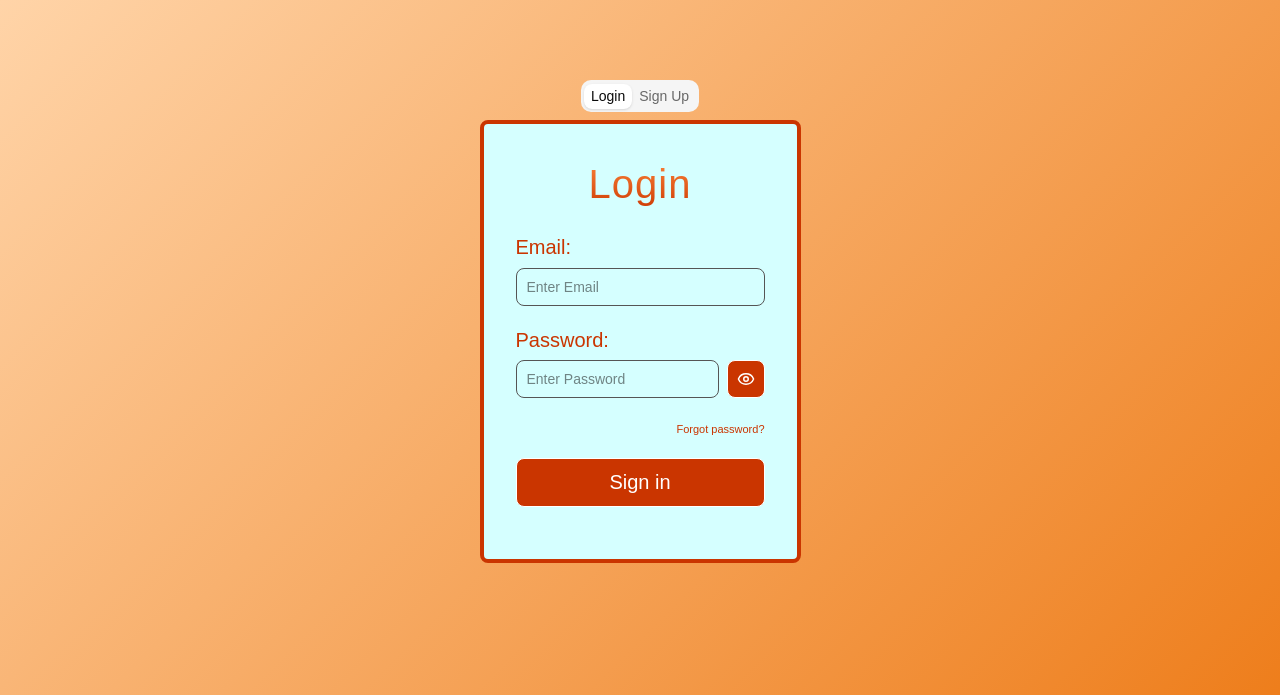
Scenario: Login Page Testing › Registration Form Testing › Testing a password that is meant to fail
The image size is (1280, 695).
Click the tab "Sign Up".
click(664, 96)  # box [632,84,696,108]
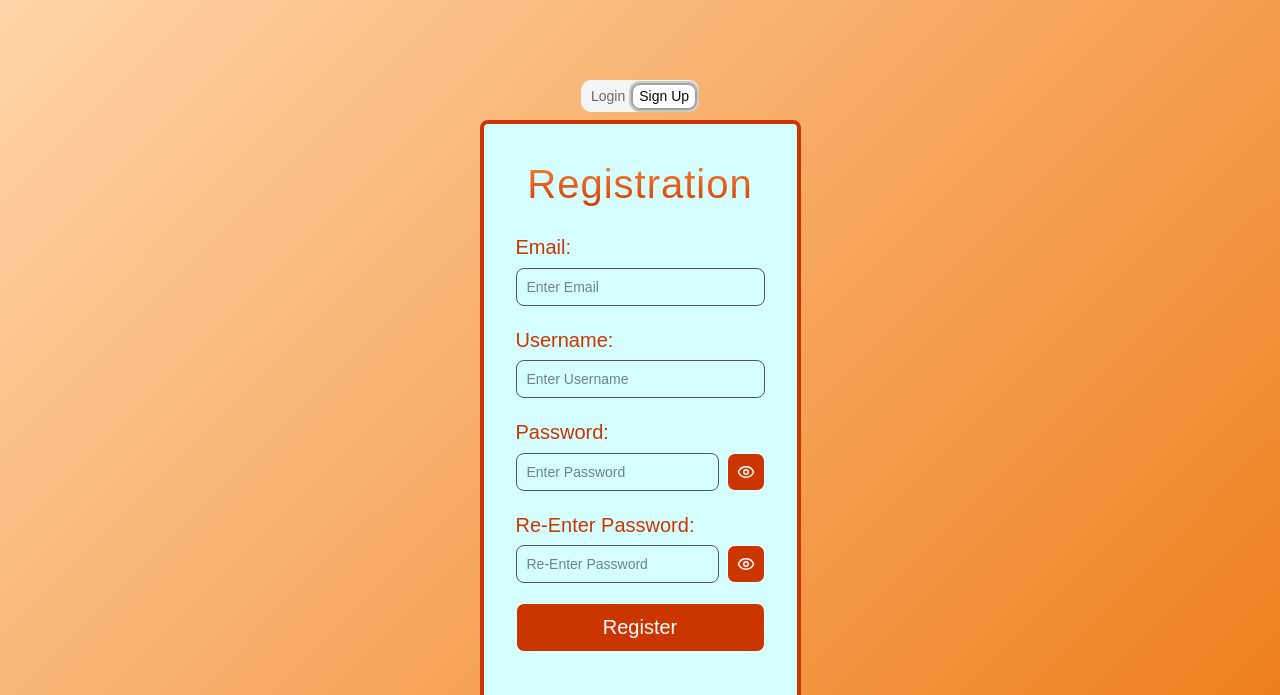
Type "Password123" into the password field labelled "Password:".
click(617, 472); type("Password123")  # box [516,453,718,491]
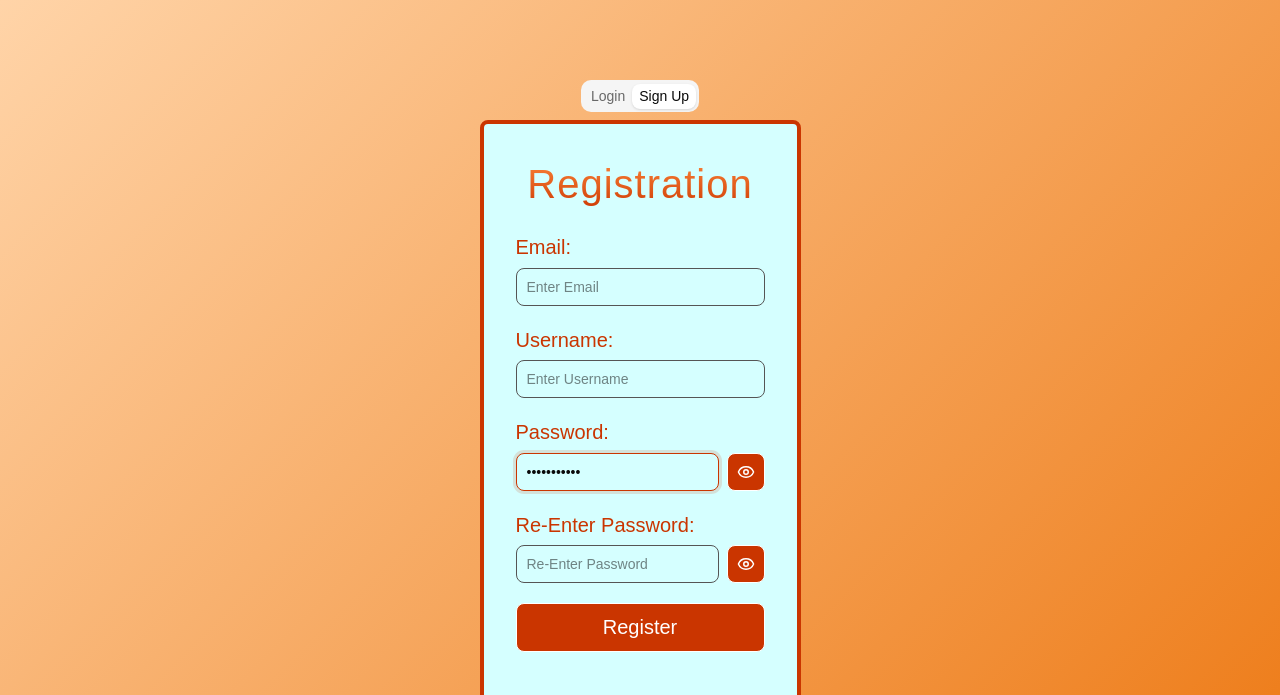
Click the button titled "subBtn".
click(640, 628)  # box [516,603,764,652]
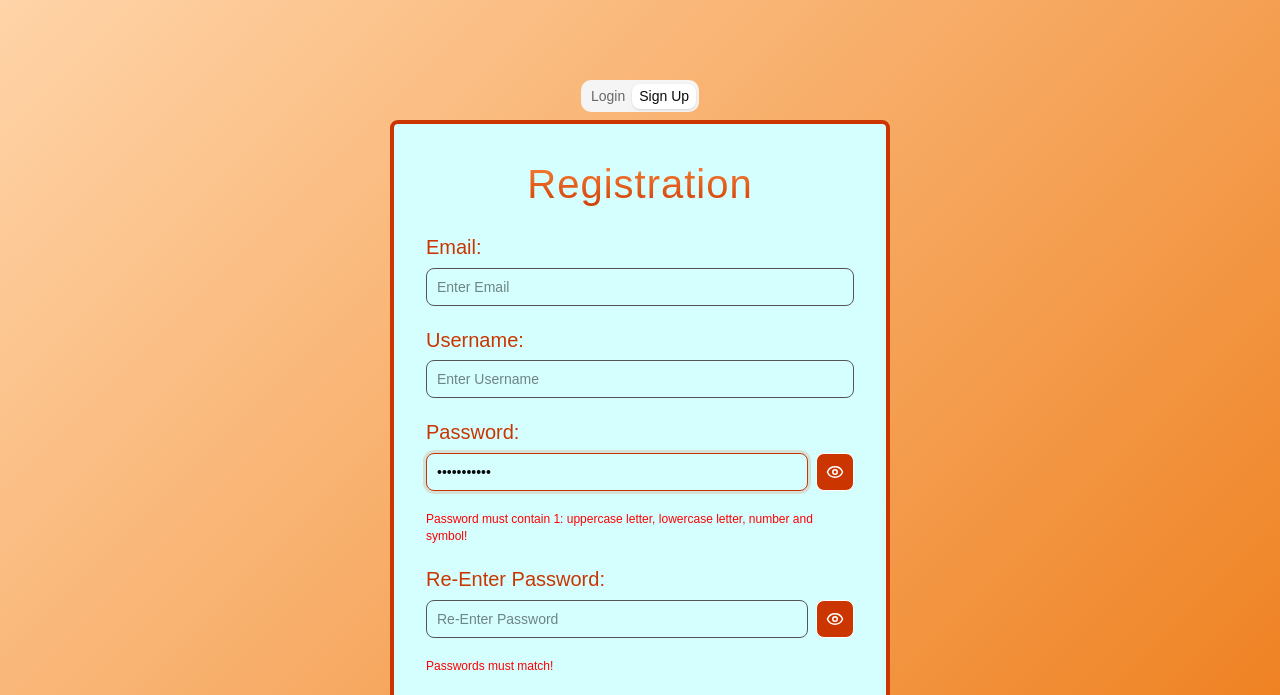
Result: the text titled "errorMsg" reads "Password must contain 1: uppercase letter, lowercase letter, number and symbol!" at [426,512,813,543]
